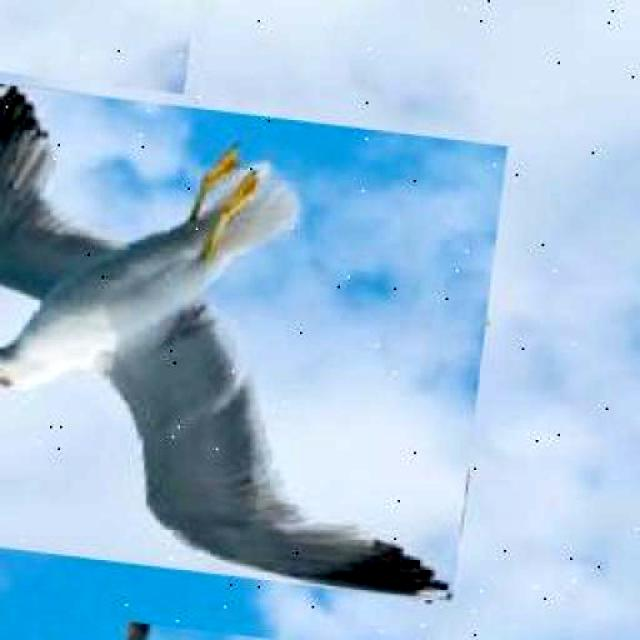airplane: (0, 81, 508, 601)
